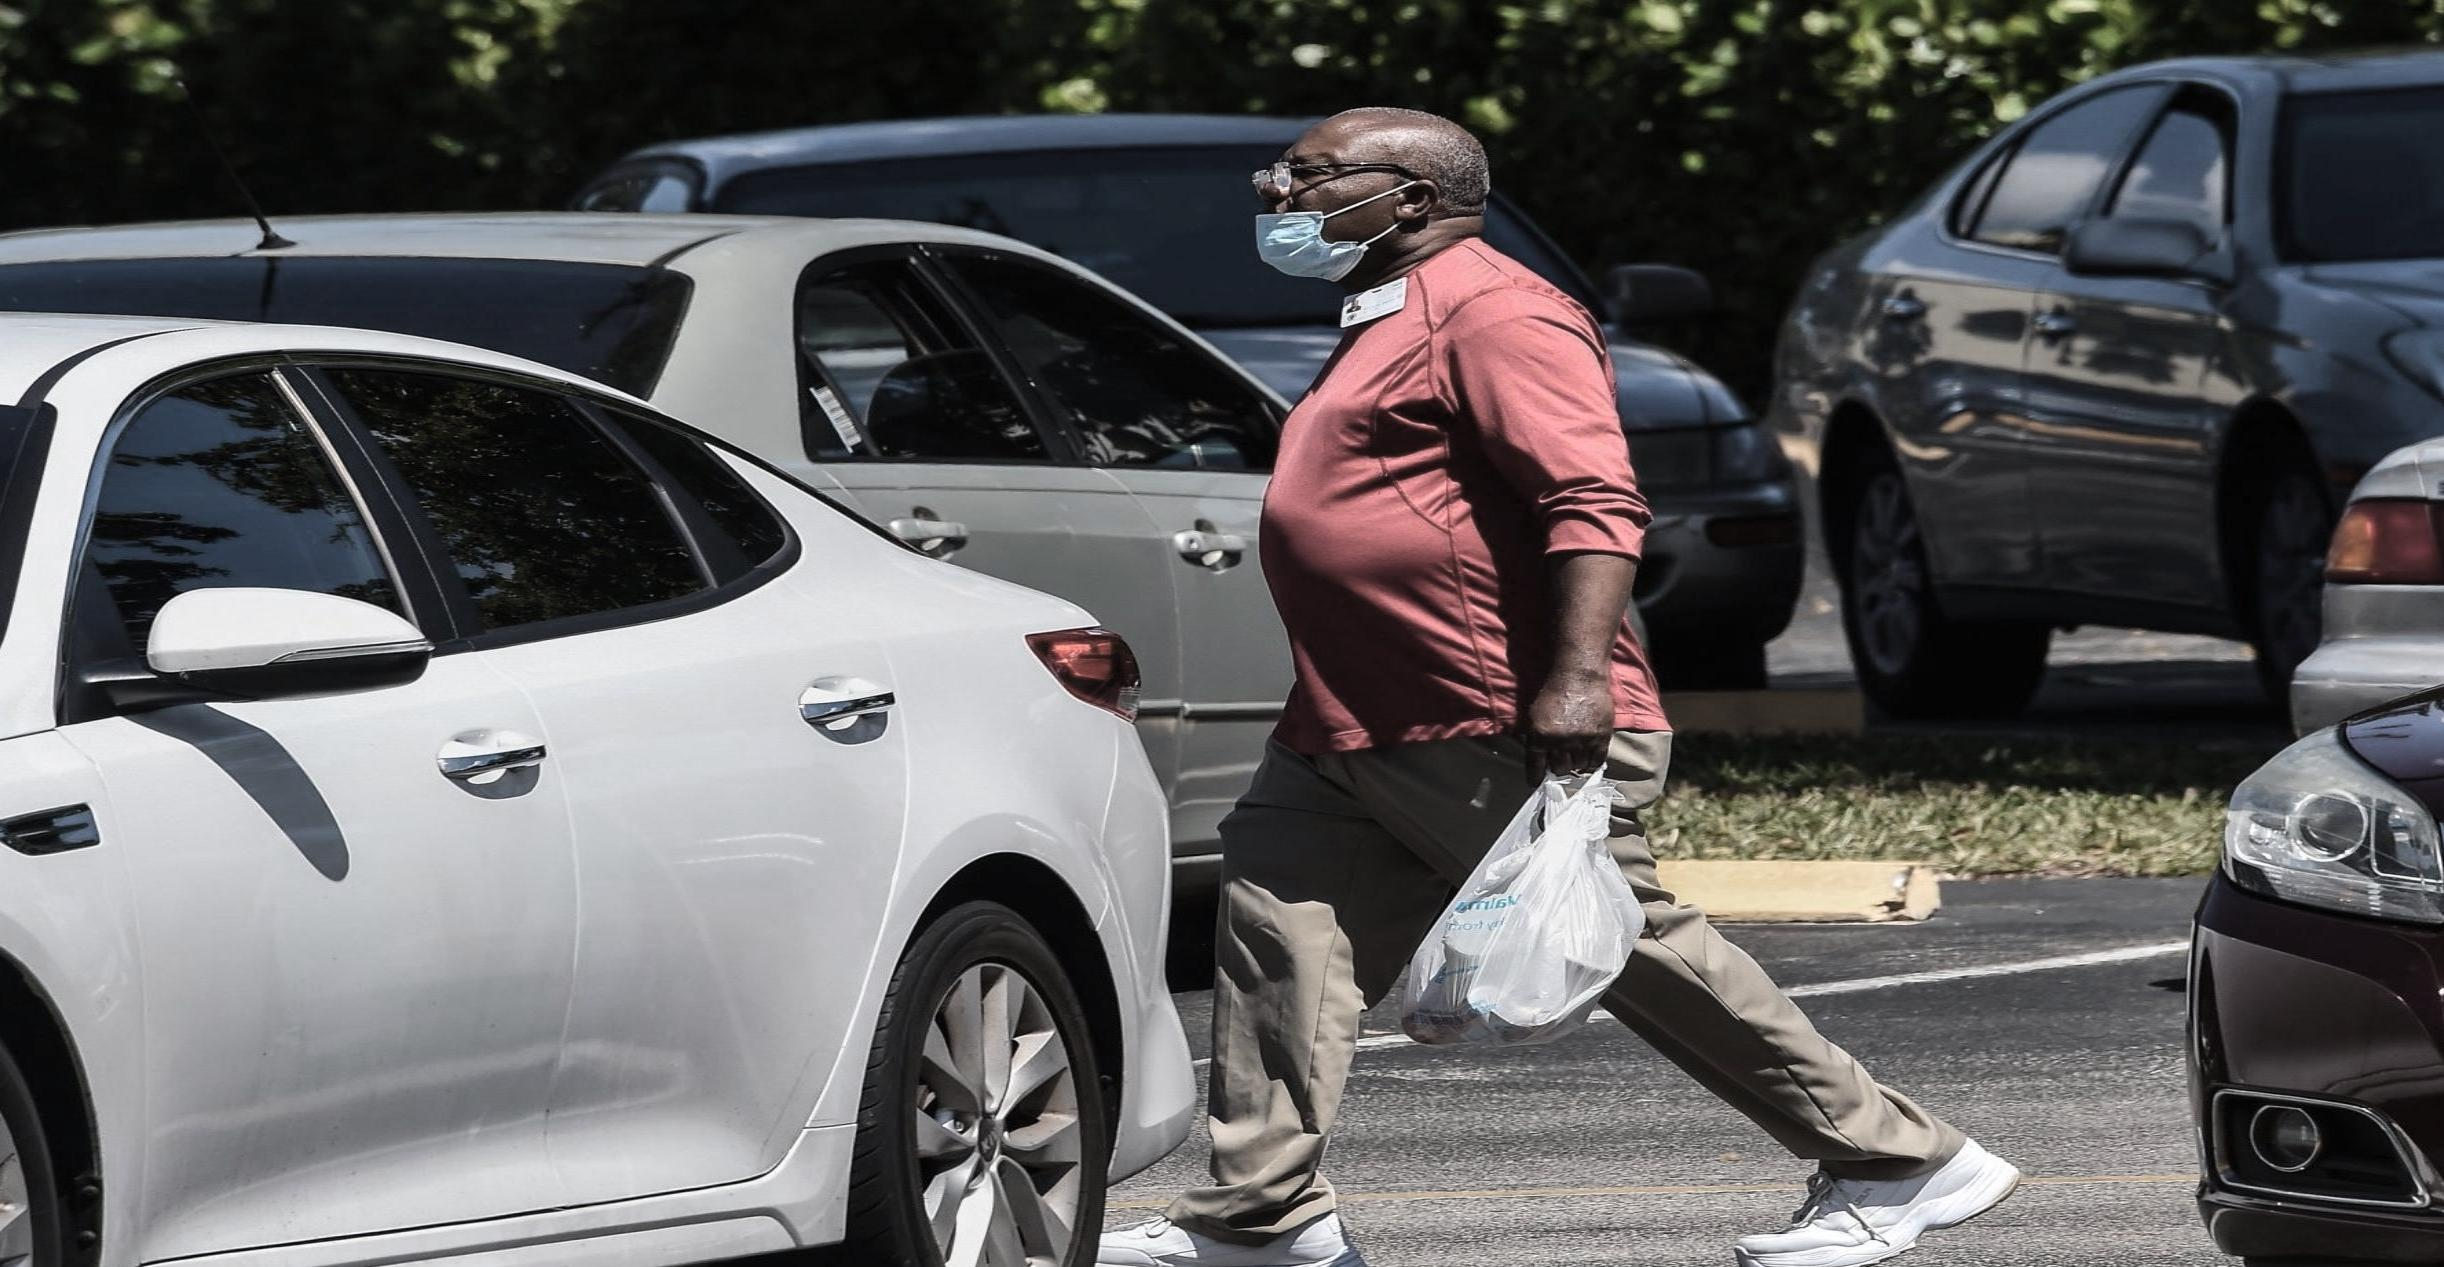mask_weared_incorrect: (1204, 98, 1460, 318), (1239, 106, 1506, 295)
